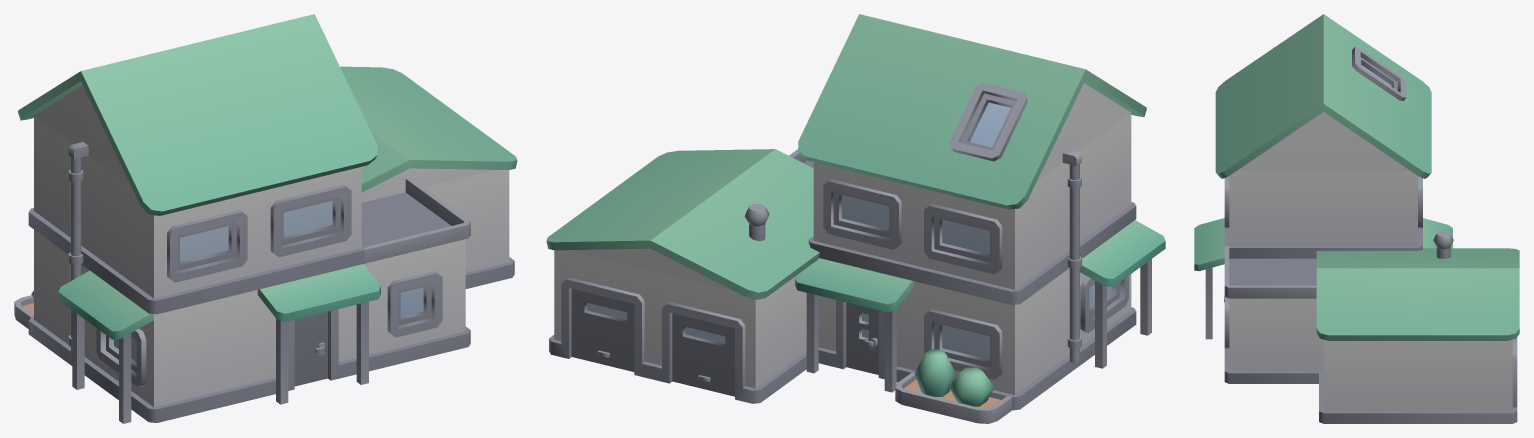
File: building-type-n.glb
The picture shows the model from 3 angles, left to right: view 1: azimuth 30°, elevation 25°; view 2: azimuth 150°, elevation 25°; view 3: azimuth 270°, elevation 25°; orthographic projection. The views are drawn at different scales.
Visible parts, largest first — view 1: building-type-n; view 2: building-type-n; view 3: building-type-n.
Part boxes in pixels (<box>): building-type-n: <box>14,14,517,423</box>; building-type-n: <box>546,14,1165,423</box>; building-type-n: <box>1194,14,1519,423</box>.
Size of the model in its own units: 1.78 by 1.14 by 1.38.
